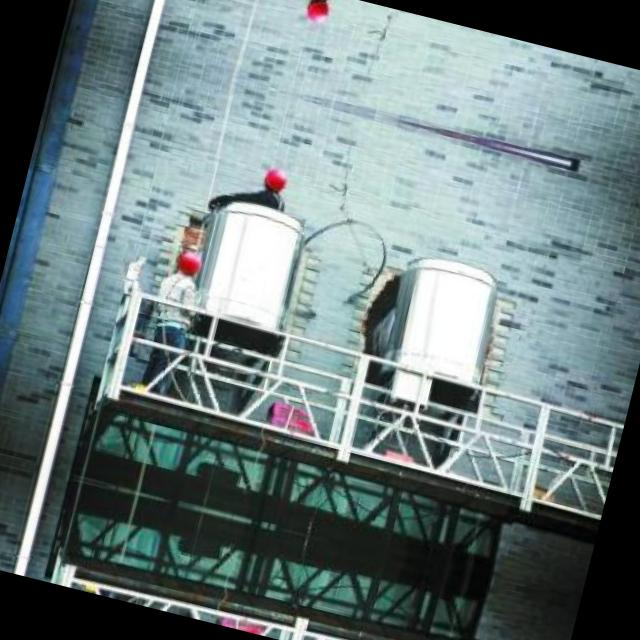helmet: (255, 161, 294, 197), (172, 246, 207, 282), (297, 0, 336, 26)
